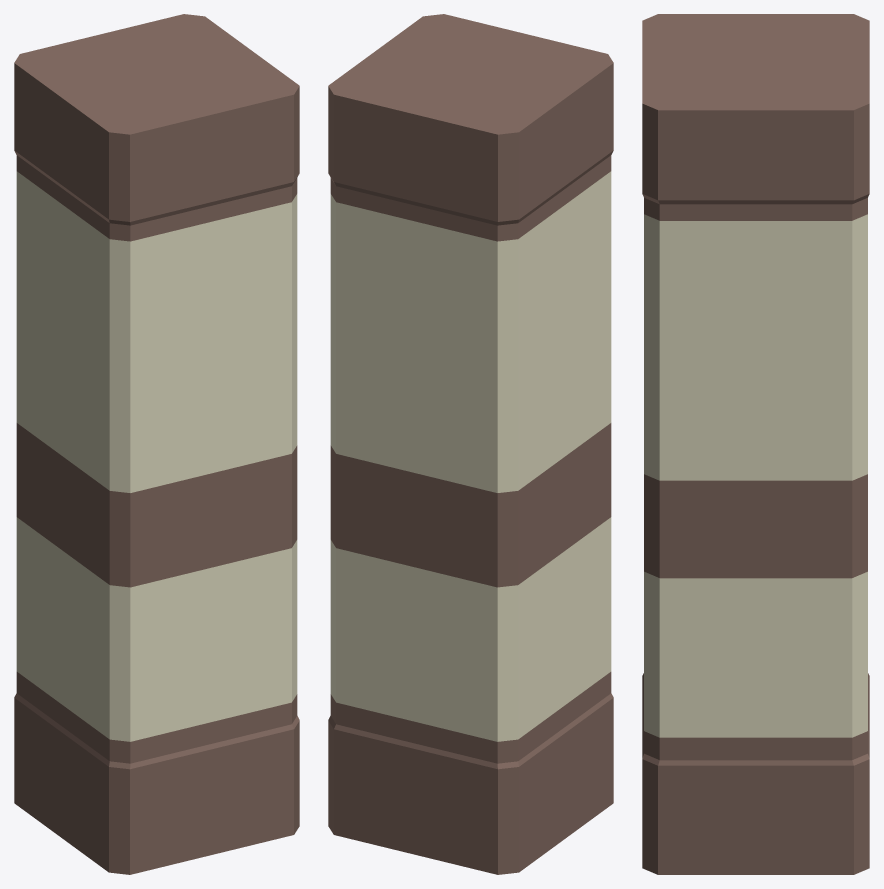
Rendered from Columns.fbx.
The picture shows the model from 3 angles, left to right: view 1: azimuth 30°, elevation 25°; view 2: azimuth 150°, elevation 25°; view 3: azimuth 270°, elevation 25°; orthographic projection. The views are drawn at different scales.
Visible parts, largest first — view 1: Column01; view 2: Column01; view 3: Column01.
Part boxes in pixels (x1,y1,x2,y2): Column01: (14,14,299,874); Column01: (328,14,613,874); Column01: (642,14,869,874).
Bounding box in the file's own units: 120 × 443 × 120.
